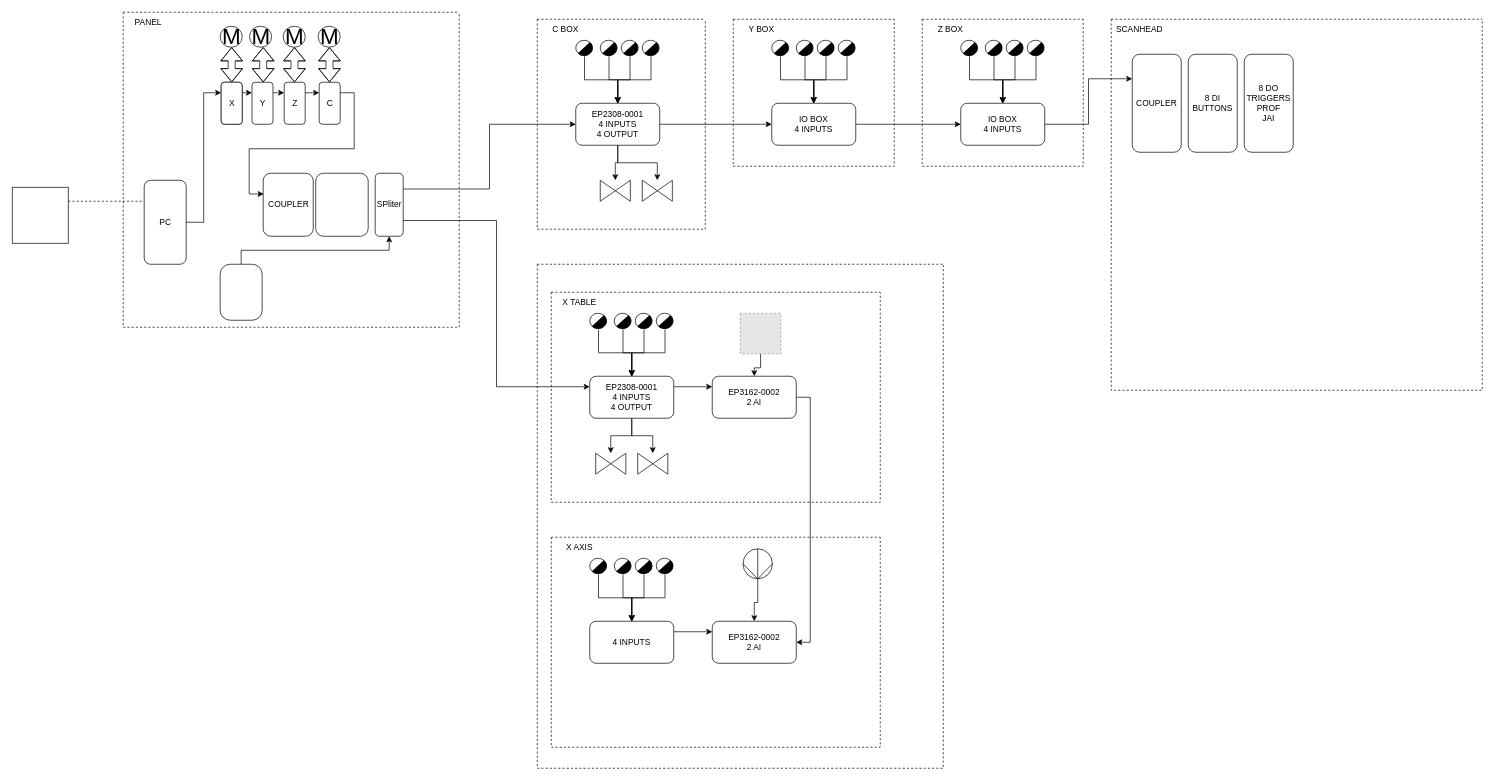
This 1495x781 diagram has some shape labels left out. Grey dashed boxes stand in for pictures. Each missing label, with the centre of its shape:
"8 DO PSU" belongs at (x=341, y=204).
"PENDANT" belongs at (x=240, y=292).
"SCANNER PC" belongs at (x=40, y=215).
"TRY TO COMBINE" belongs at (x=740, y=516).
